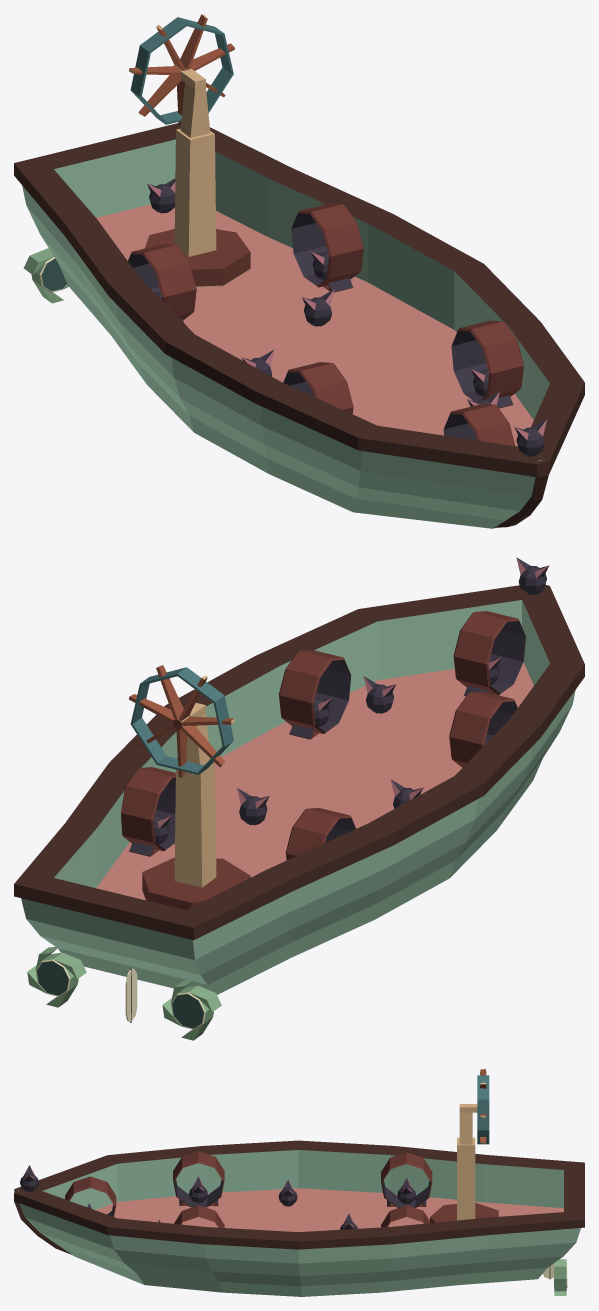
File: boat_complete.glb
3 renders of one model, top to bottom at view 1: azimuth 30°, elevation 25°; view 2: azimuth 150°, elevation 25°; view 3: azimuth 270°, elevation 25°, orthographic. The views are drawn at different scales.
Parts seen in each view (by area): view 1: Cube, Cube.002, Cylinder.003, Cylinder.004, Cylinder.002, Cylinder.006, Cylinder.005, Cylinder.001, Sphere.007, Sphere.008, Sphere.009; view 2: Cube, Cube.002, Cylinder.004, Cylinder.006, Cylinder.003, Cylinder.005, Cylinder, Cylinder.001, Cylinder.002, Sphere.006, Sphere.008, Sphere.007; view 3: Cube, Cube.002, Cylinder.005, Cylinder.002, Cylinder.006, Cylinder.004, Cylinder.003, Cylinder, Sphere.005, Sphere.003, Sphere.007, Sphere.
Part boxes in pixels (box(x1,y1,x2,y2)): Cube: box(14, 123, 584, 528); Cube.002: box(129, 14, 250, 287); Cylinder.003: box(291, 203, 363, 292); Cylinder.004: box(451, 320, 523, 408); Cylinder.002: box(128, 244, 196, 322); Cylinder.006: box(443, 404, 515, 445); Cylinder.005: box(283, 362, 353, 414); Cylinder.001: box(23, 248, 68, 303); Sphere.007: box(514, 419, 546, 456); Sphere.008: box(301, 289, 334, 326); Sphere.009: box(147, 178, 175, 213); Cube: box(14, 584, 584, 994); Cube.002: box(129, 665, 250, 910); Cylinder.004: box(278, 650, 351, 739); Cylinder.006: box(453, 611, 525, 695); Cylinder.003: box(121, 767, 175, 856); Cylinder.005: box(449, 691, 517, 767); Cylinder: box(27, 946, 86, 1007); Cylinder.001: box(162, 979, 221, 1040); Cylinder.002: box(285, 808, 355, 860); Sphere.006: box(363, 676, 396, 713); Sphere.008: box(237, 788, 269, 825); Sphere.007: box(516, 557, 549, 594); Cube: box(14, 1140, 584, 1296); Cube.002: box(430, 1069, 498, 1222); Cylinder.005: box(173, 1151, 224, 1207); Cylinder.002: box(381, 1152, 432, 1207); Cylinder.006: box(65, 1176, 116, 1216); Cylinder.004: box(174, 1205, 224, 1227); Cylinder.003: box(381, 1205, 430, 1227); Cylinder: box(554, 1259, 567, 1295); Sphere.005: box(278, 1180, 297, 1206); Sphere.003: box(189, 1176, 207, 1203); Sphere.007: box(20, 1165, 38, 1191); Sphere: box(397, 1178, 416, 1204).
Size of the model in its own units: 4.87 by 4.59 by 11.64.
